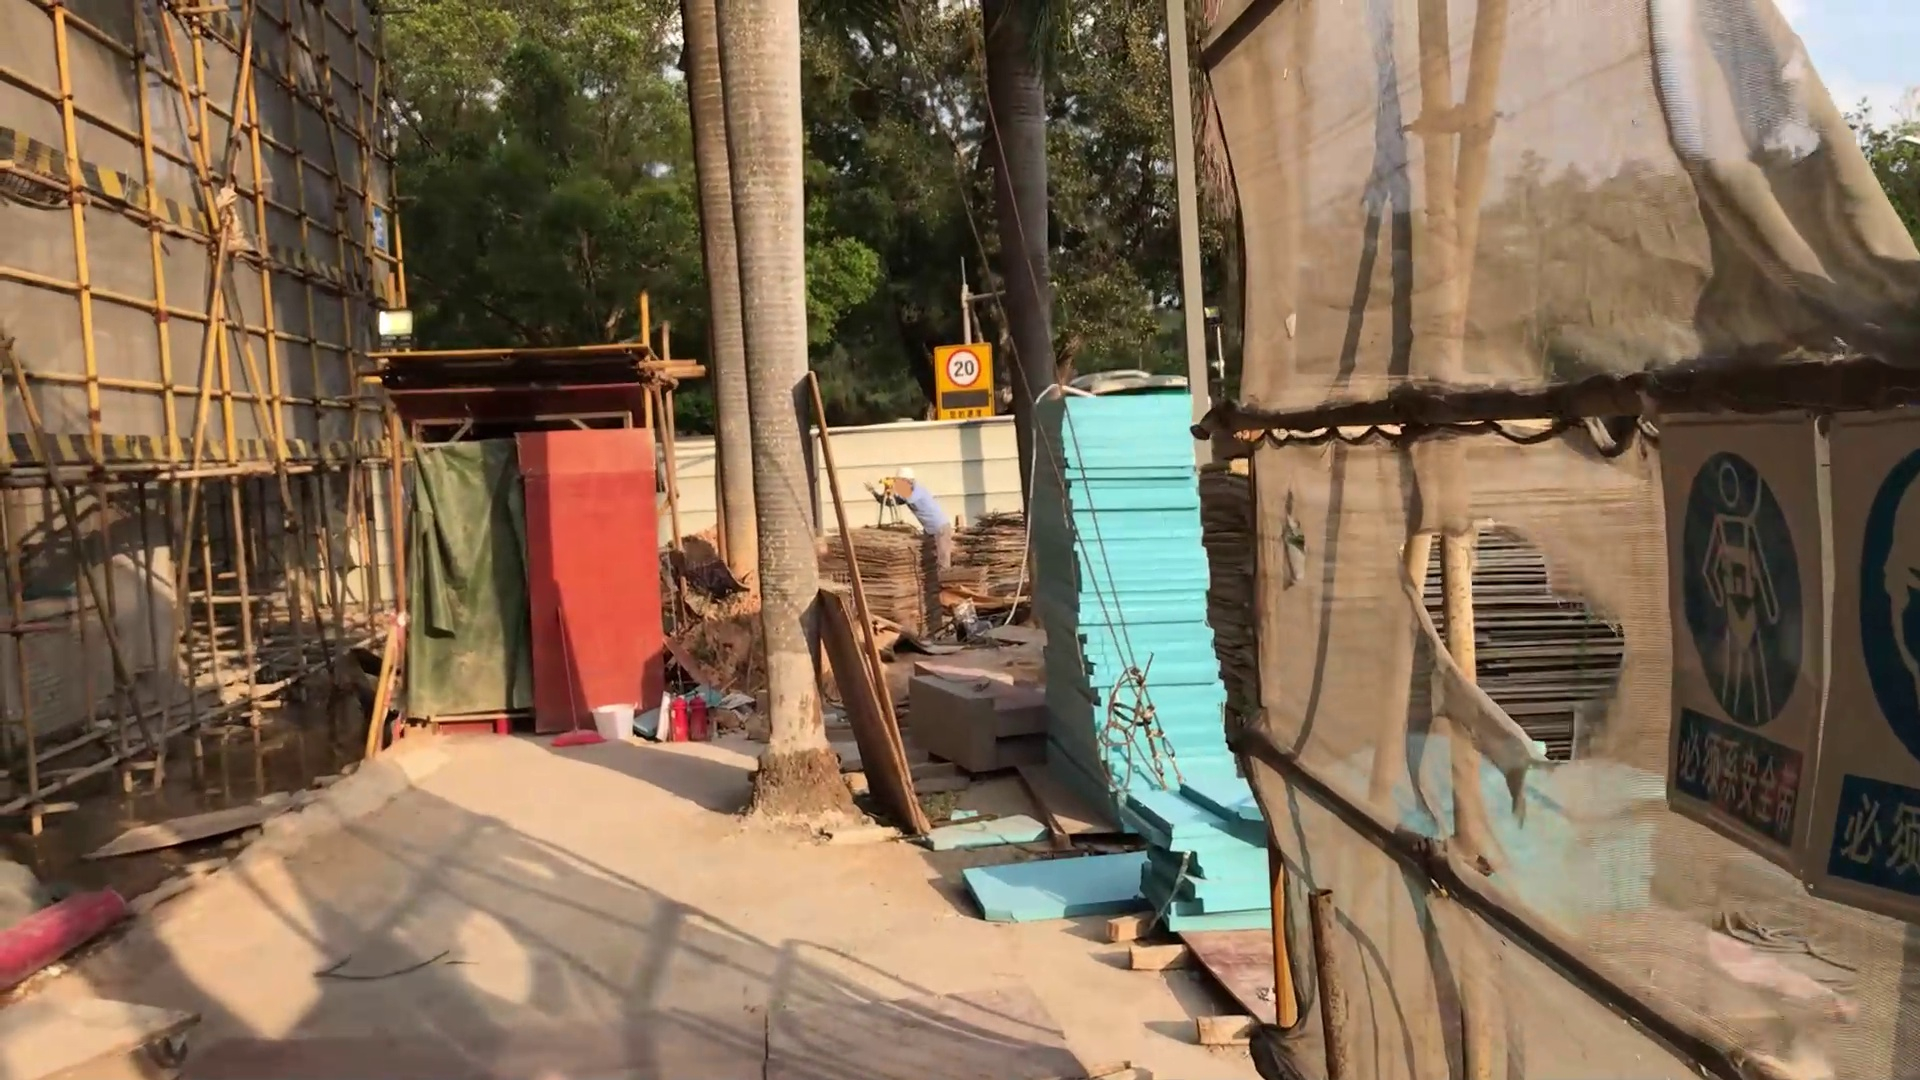board: (1414, 517, 1617, 759)
helmet: (883, 462, 913, 490)
person: (864, 462, 954, 575)
slogan: (1663, 416, 1920, 911), (934, 340, 996, 424)
